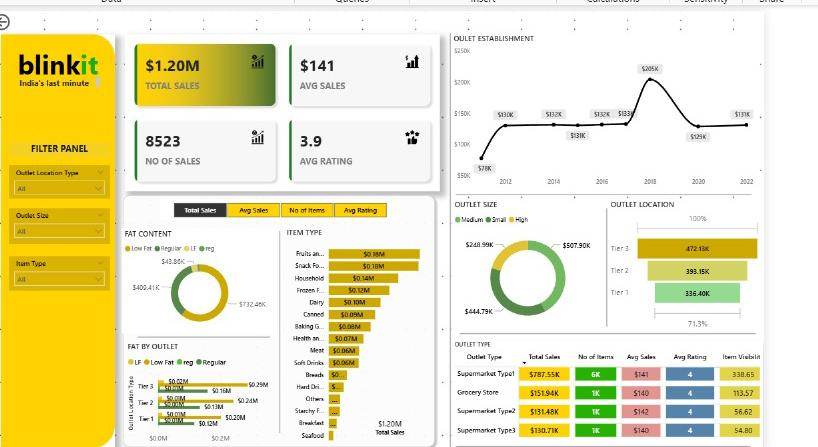

The page's visual inventory and layout, read from the dashboard file:
{"tool":"powerbi","page":{"name":"Page 1","canvas":[1400,800],"ordinal":0},"visuals":[{"type":"shape","box":[18.1,41.7,206.5,749.9],"z":0},{"type":"textbox","box":[34.4,58,173.9,110.5],"z":1000},{"type":"textbox","box":[34.4,114.1,168.5,36.2],"z":2000},{"type":"cardVisual","fields":{"Data":["BlinkIT Grocery Data.Total Sales","BlinkIT Grocery Data.Avg Sales","BlinkIT Grocery Data.No of Items","BlinkIT Grocery Data.Avg Rating"]},"box":[242.7,41.7,570.6,284.4],"z":3000},{"type":"shape","box":[230,324.2,583.2,474.6],"z":4000},{"type":"slicer","title":"FAT CONTANT","fields":{"Values":["BlinkIT Grocery Data.Outlet Location Type"]},"box":[33.4,279.7,183.7,60.5],"z":5000},{"type":"slicer","fields":{"Values":["Metrics.Metrics"]},"box":[306.1,340.5,434.7,38],"z":6000},{"type":"cardVisual","fields":{"Data":["BlinkIT Grocery Data.Total Sales"]},"box":[644.9,707.5,156.5,91.8],"z":7000},{"type":"actionButton","box":[0,0,202.4,39.7],"z":8000},{"type":"clusteredBarChart","title":"FAT BY OUTLET","fields":{"Y":["BlinkIT Grocery Data.Total Sales"],"Category":["BlinkIT Grocery Data.Outlet Location Type"],"Series":["BlinkIT Grocery Data.Item Fat Content"]},"box":[242.1,596.9,281.7,194.1],"z":9000},{"type":"shape","box":[266.3,585.1,239.1,10.9],"z":10000},{"type":"shape","box":[480,398.5,86.9,365.9],"z":11000},{"type":"barChart","title":"ITEM TYPE","fields":{"Y":["BlinkIT Grocery Data.Total Sales"],"Category":["BlinkIT Grocery Data.Item Type"]},"box":[530.7,391.2,271.7,400.3],"z":12000},{"type":"shape","box":[802.4,39.8,59.8,751.7],"z":14000},{"type":"shape","box":[842.3,326,536.2,12.7],"z":15000},{"type":"donutChart","title":"OUTLET SIZE","fields":{"Y":["BlinkIT Grocery Data.Total Sales"],"Category":["BlinkIT Grocery Data.Outlet Size"]},"box":[835,340.5,275.3,240.9],"z":16000},{"type":"shape","box":[1072.3,356.8,86.9,215.5],"z":17000},{"type":"funnel","title":"OUTLET LOCATION","fields":{"Category":["BlinkIT Grocery Data.Outlet Location Type"],"Y":["Sum(BlinkIT Grocery Data.Sales)"]},"box":[1117.6,340.5,280.8,240.9],"z":18000},{"type":"shape","box":[849.5,572.4,536.2,23.5],"z":19000},{"type":"pivotTable","title":"OUTLET TYPE","fields":{"Rows":["BlinkIT Grocery Data.Outlet Type"],"Values":["BlinkIT Grocery Data.Total Sales","BlinkIT Grocery Data.No of Items","BlinkIT Grocery Data.Avg Sales","BlinkIT Grocery Data.Avg Rating","Sum(BlinkIT Grocery Data.Item Visibility)"]},"box":[835,595.9,563.3,204.7],"z":20000},{"type":"slicer","title":"FAT CONTANT","fields":{"Values":["BlinkIT Grocery Data.Outlet Size"]},"box":[33.4,356.9,183.7,64.7],"z":21000},{"type":"slicer","title":"FAT CONTANT","fields":{"Values":["BlinkIT Grocery Data.Item Type"]},"box":[33.4,444.5,183.7,62.6],"z":22000},{"type":"qnaVisual","box":[507.1,0,23,20.9],"z":23000},{"type":"shape","title":"FILTER PANEL","box":[33.4,237.9,183.7,27.1],"z":24000},{"type":"donutChart","title":"FAT CONTENT","fields":{"Y":["BlinkIT Grocery Data.Total Sales"],"Category":["BlinkIT Grocery Data.Item Fat Content"]},"box":[237.9,392.3,281.7,189.9],"z":25000},{"type":"lineChart","title":" OULET ESTABLISHMENT","fields":{"Y":["BlinkIT Grocery Data.Total Sales"],"Category":["BlinkIT Grocery Data.Outlet Establishment Year"]},"box":[833.2,39.8,552.5,286.2],"z":25001}]}

Visuals, with their boxes on the page's 1400x800 design canvas (x1, y1, x2, y2). These are canvas units, not pixel positions in the 818x447 screenshot, which may show the page scaled, cropped or inside an application window:
shape: [x1=18, y1=42, x2=225, y2=792]
textbox: [x1=34, y1=58, x2=208, y2=168]
textbox: [x1=34, y1=114, x2=203, y2=150]
cardVisual - BlinkIT Grocery Data.Total Sales x BlinkIT Grocery Data.Avg Sales: [x1=243, y1=42, x2=813, y2=326]
shape: [x1=230, y1=324, x2=813, y2=799]
"FAT CONTANT" slicer: [x1=33, y1=280, x2=217, y2=340]
slicer - Metrics.Metrics: [x1=306, y1=340, x2=741, y2=378]
cardVisual - BlinkIT Grocery Data.Total Sales: [x1=645, y1=708, x2=801, y2=799]
actionButton: [x1=0, y1=0, x2=202, y2=40]
"FAT BY OUTLET" clusteredBarChart: [x1=242, y1=597, x2=524, y2=791]
shape: [x1=266, y1=585, x2=505, y2=596]
shape: [x1=480, y1=398, x2=567, y2=764]
"ITEM TYPE" barChart: [x1=531, y1=391, x2=802, y2=792]
shape: [x1=802, y1=40, x2=862, y2=792]
shape: [x1=842, y1=326, x2=1378, y2=339]
"OUTLET SIZE" donutChart: [x1=835, y1=340, x2=1110, y2=581]
shape: [x1=1072, y1=357, x2=1159, y2=572]
"OUTLET LOCATION" funnel: [x1=1118, y1=340, x2=1398, y2=581]
shape: [x1=850, y1=572, x2=1386, y2=596]
"OUTLET TYPE" pivotTable: [x1=835, y1=596, x2=1398, y2=801]
"FAT CONTANT" slicer: [x1=33, y1=357, x2=217, y2=422]
"FAT CONTANT" slicer: [x1=33, y1=444, x2=217, y2=507]
qnaVisual: [x1=507, y1=0, x2=530, y2=21]
"FILTER PANEL" shape: [x1=33, y1=238, x2=217, y2=265]
"FAT CONTENT" donutChart: [x1=238, y1=392, x2=520, y2=582]
" OULET ESTABLISHMENT" lineChart: [x1=833, y1=40, x2=1386, y2=326]
